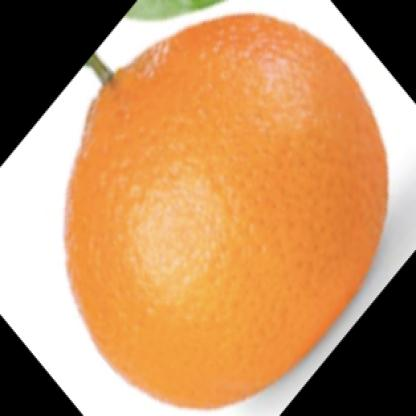fresh: (67, 15, 389, 406)
